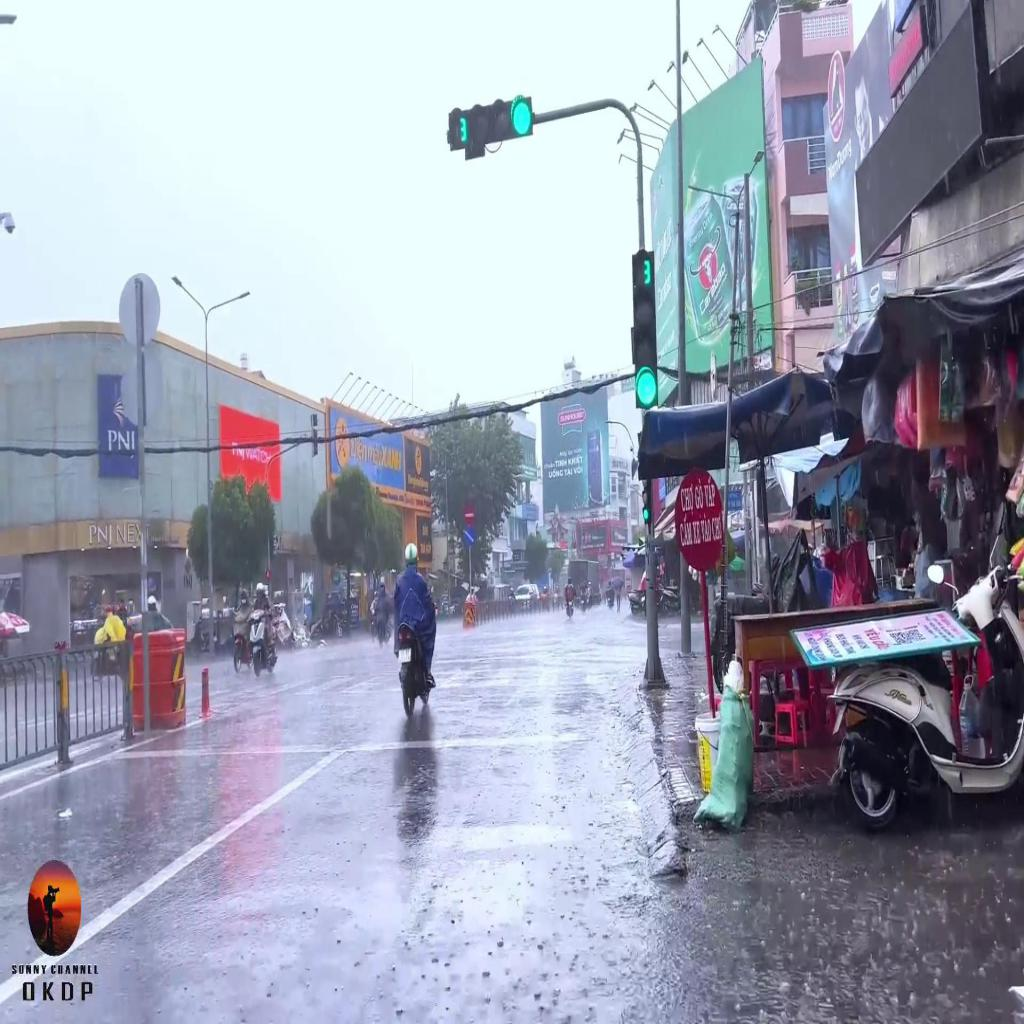cam_xe_di_nguoc_chieu: (463, 504, 477, 526)
huong_phai_di_vuot_chuong_ngai_vat_phai: (463, 527, 476, 547)
